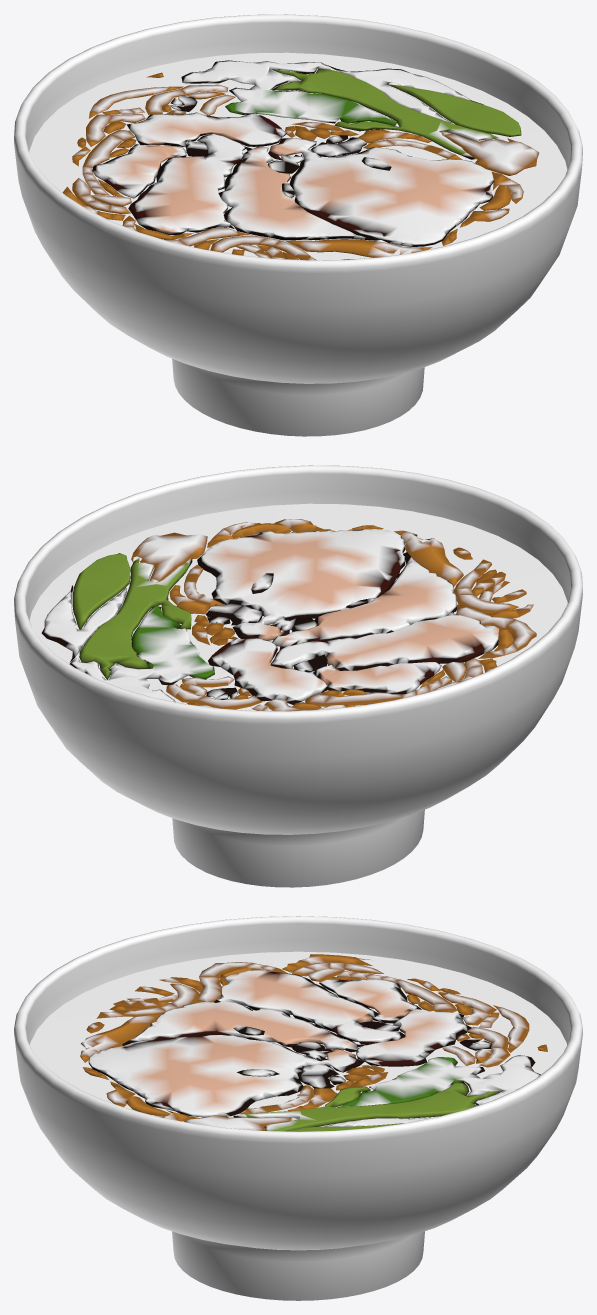
The picture shows the model from 3 angles, top to bottom: view 1: azimuth 30°, elevation 25°; view 2: azimuth 150°, elevation 25°; view 3: azimuth 270°, elevation 25°; orthographic projection. The views are drawn at different scales.
Visible parts, largest first — view 1: SM_D09; view 2: SM_D09; view 3: SM_D09.
Part boxes in pixels (x1,y1,x2,y2): SM_D09: (14,14,582,436); SM_D09: (14,465,582,887); SM_D09: (14,916,582,1300).
Size of the model in its own units: 0.162 by 0.0788 by 0.1768.
